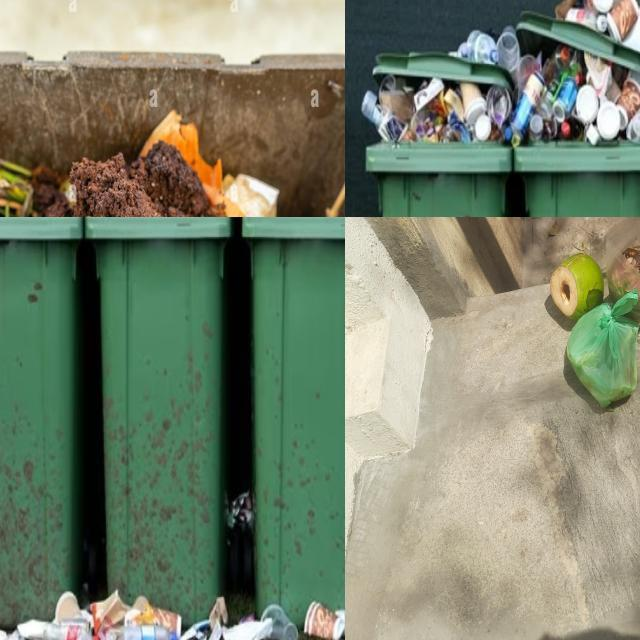Disposable: (459, 82, 487, 128), (607, 0, 638, 41), (617, 77, 640, 129), (496, 27, 521, 74), (487, 86, 511, 129)
Garbage: (361, 0, 640, 146), (0, 111, 278, 217), (531, 217, 640, 434)
Plastic_Bag: (566, 290, 639, 408), (606, 217, 640, 328)
Plastic_bottle: (457, 29, 498, 63), (455, 31, 498, 63), (565, 8, 608, 32), (529, 114, 544, 141)
can: (511, 72, 544, 136), (552, 77, 578, 123)
